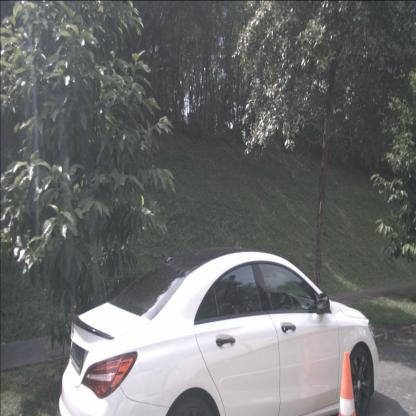movable_object-trafficcone: (336, 352, 358, 416)
vehicle-car: (58, 249, 379, 416)
